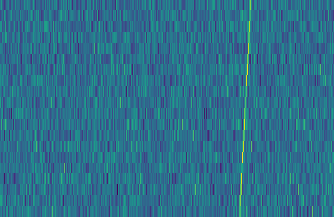signal: (236, 0, 256, 217)
